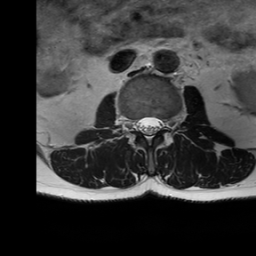CCS_normal: (144, 110, 152, 149)
LFS_normal: (161, 109, 170, 136)
LLS_normal: (152, 110, 161, 137)
RFS_normal: (127, 110, 135, 137)
RLS_normal: (135, 109, 144, 137)
